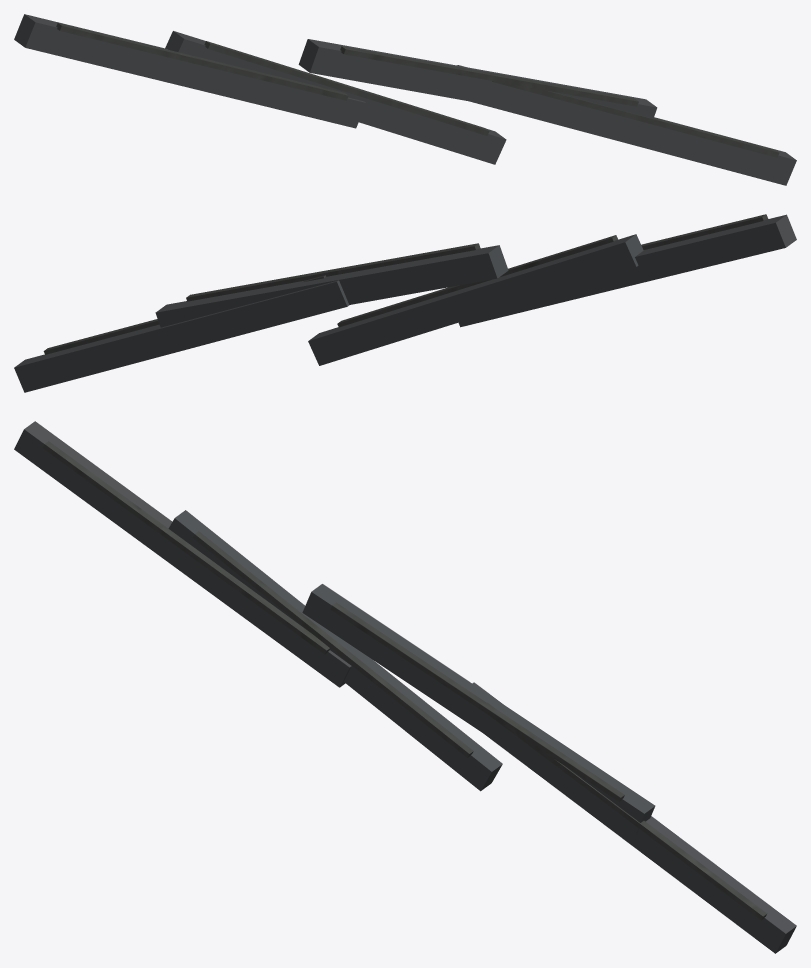
The model's file is trace_claw_marks.glb.
3 renders of one model, top to bottom at view 1: azimuth 30°, elevation 25°; view 2: azimuth 150°, elevation 25°; view 3: azimuth 330°, elevation 25°, orthographic.
Visible parts, largest first — view 1: trace_claw_marks; view 2: trace_claw_marks; view 3: trace_claw_marks.
Boxes of the visible parts, <box> form: trace_claw_marks: <box>14,14,796,185</box>; trace_claw_marks: <box>14,214,796,392</box>; trace_claw_marks: <box>14,421,796,953</box>.
Bounding box in the file's own units: 0.6394 × 0.2772 × 0.029.
Materials: 2 (1 with a texture image).
